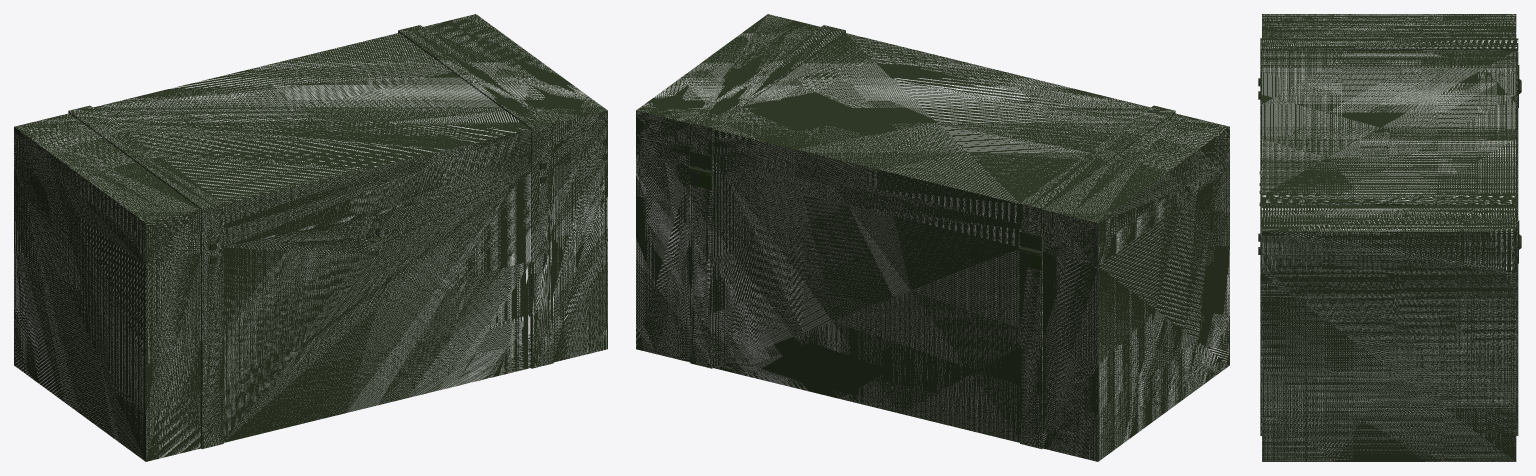
3 views of the same model, side by side, from view 1: azimuth 30°, elevation 25°; view 2: azimuth 150°, elevation 25°; view 3: azimuth 270°, elevation 25° (orthographic). The views are drawn at different scales.
Visible parts, largest first — view 1: mesh20_mesh20-geometry; view 2: mesh20_mesh20-geometry, mesh5_mesh5-geometry; view 3: mesh20_mesh20-geometry.
Part boxes in pixels (bbox=[...]): mesh20_mesh20-geometry: bbox=[14, 14, 607, 461]; mesh20_mesh20-geometry: bbox=[636, 14, 1229, 461]; mesh5_mesh5-geometry: bbox=[689, 151, 1041, 252]; mesh20_mesh20-geometry: bbox=[1260, 14, 1518, 461].
Size of the model in its own units: 0.814 by 0.4051 by 0.4163.
